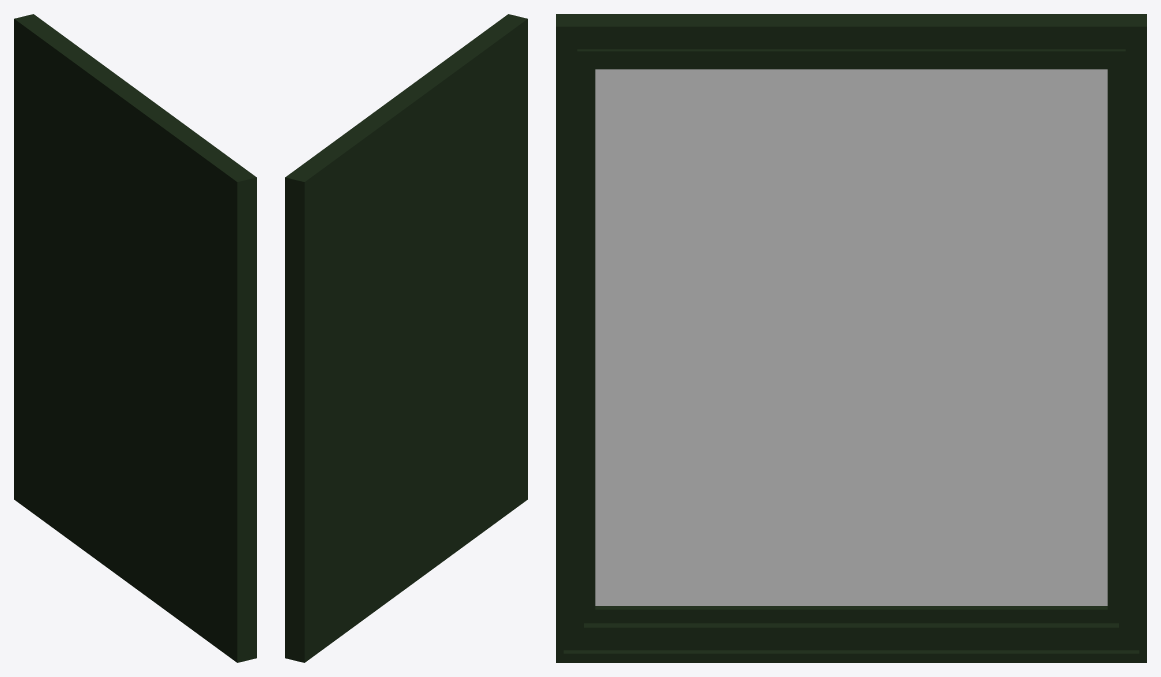
Rendered from Bild2 Fam.fbx.
3 views of the same model, side by side, from view 1: azimuth 30°, elevation 25°; view 2: azimuth 150°, elevation 25°; view 3: azimuth 270°, elevation 25° (orthographic). The views are drawn at different scales.
Visible parts, largest first — view 1: Cube; view 2: Cube; view 3: Cube.
Boxes of the visible parts, x1=… form: Cube: x1=14, y1=14, x2=256, y2=662; Cube: x1=285, y1=14, x2=527, y2=662; Cube: x1=556, y1=14, x2=1146, y2=662.
Bounding box in the file's own units: 4.13 × 97.57 × 82.11.
